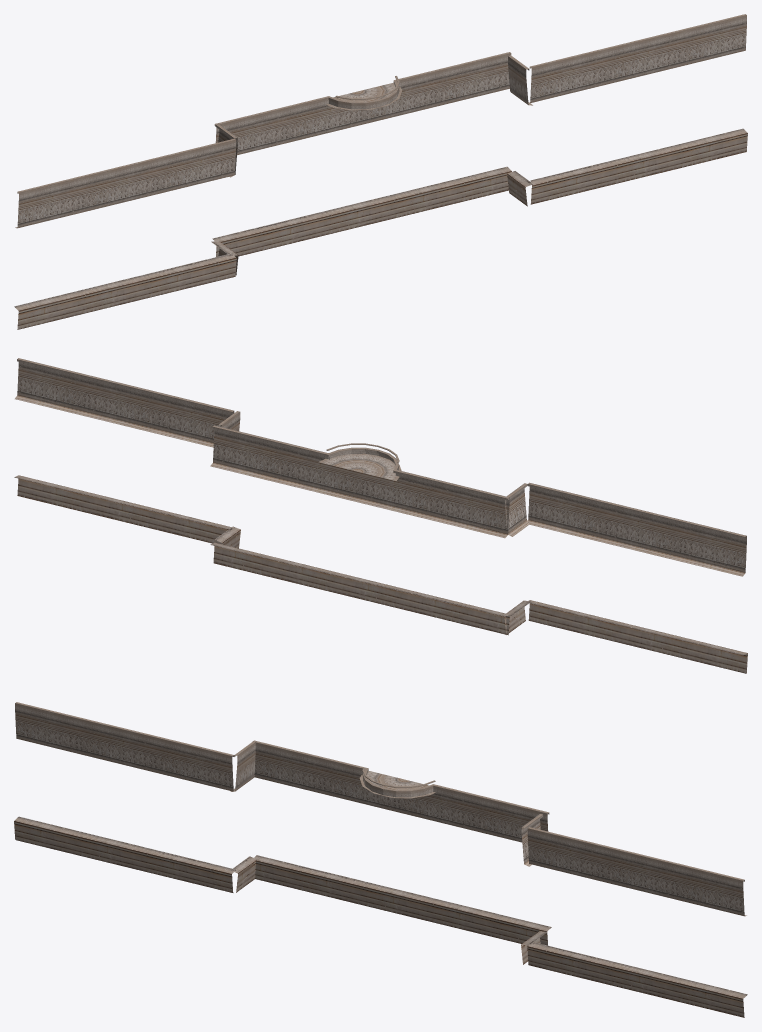
Rendered from chengqiang_chengqiang_1.FBX.
The picture shows the model from 3 angles, top to bottom: view 1: azimuth 30°, elevation 25°; view 2: azimuth 150°, elevation 25°; view 3: azimuth 330°, elevation 25°; orthographic projection.
Visible parts, largest first — view 1: chengqiang_chengqiang_1; view 2: chengqiang_chengqiang_1; view 3: chengqiang_chengqiang_1.
Boxes of the visible parts, x1,y1,x2,y2 form: chengqiang_chengqiang_1: [14, 14, 747, 329]; chengqiang_chengqiang_1: [14, 358, 747, 673]; chengqiang_chengqiang_1: [14, 702, 747, 1017].
Bounding box in the file's own units: 194 × 36.07 × 11.98.
Materials: 1 (1 with a texture image).
